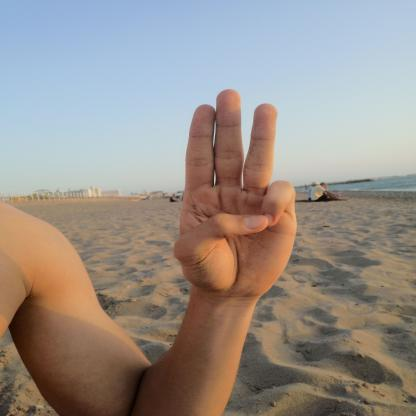THA: (159, 78, 315, 305)
